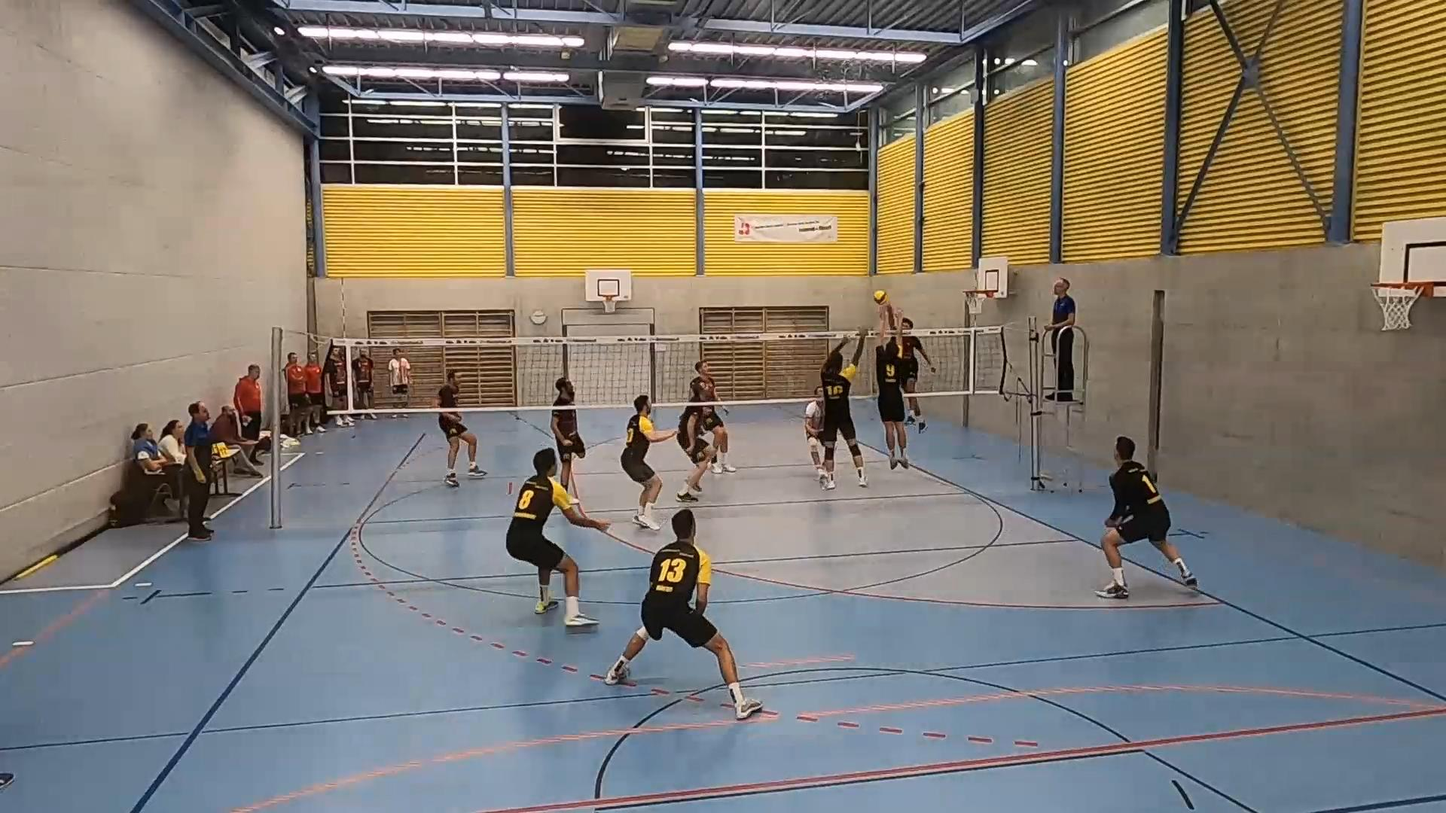Attack: (886, 307, 939, 433)
Block: (871, 303, 919, 478), (815, 330, 864, 480)
Player: (605, 508, 762, 720), (506, 449, 609, 626), (1097, 437, 1197, 598), (621, 396, 674, 530), (675, 406, 715, 502), (551, 377, 585, 488), (438, 413, 485, 486), (702, 406, 736, 473), (804, 386, 825, 484)
ball: (869, 286, 888, 306)
